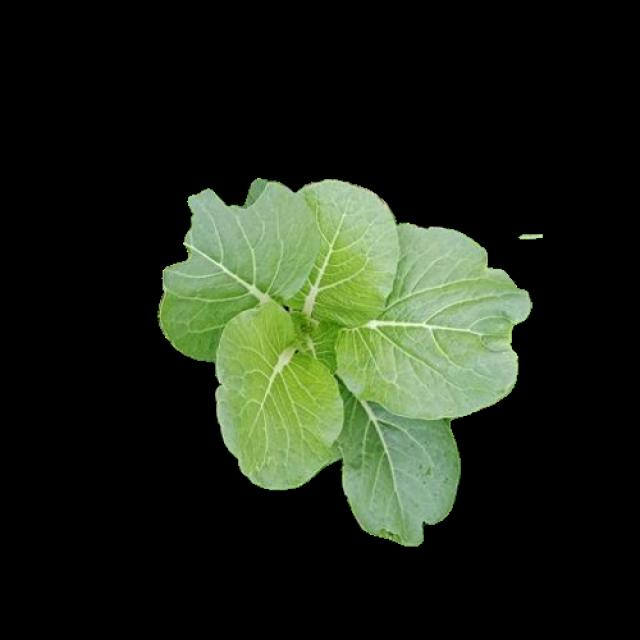mature: (164, 173, 532, 545)
unhealthy: (337, 225, 536, 415), (162, 180, 318, 358), (339, 380, 460, 544)
